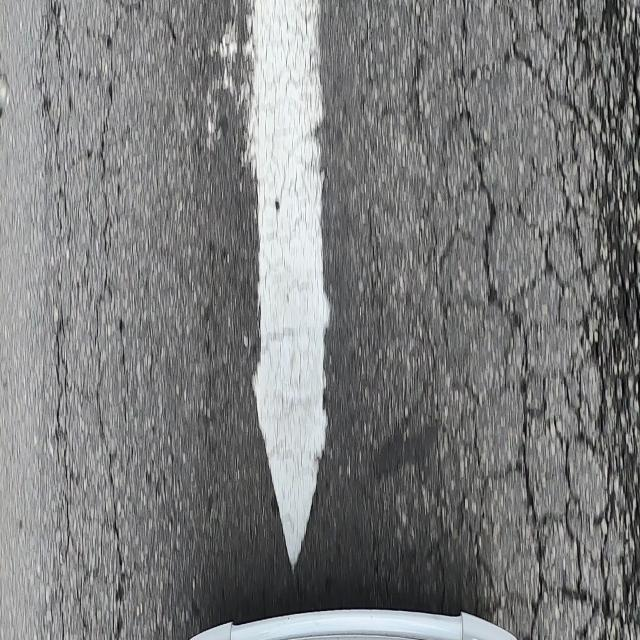Retak-Buaya: (382, 0, 640, 640), (43, 0, 157, 640)
